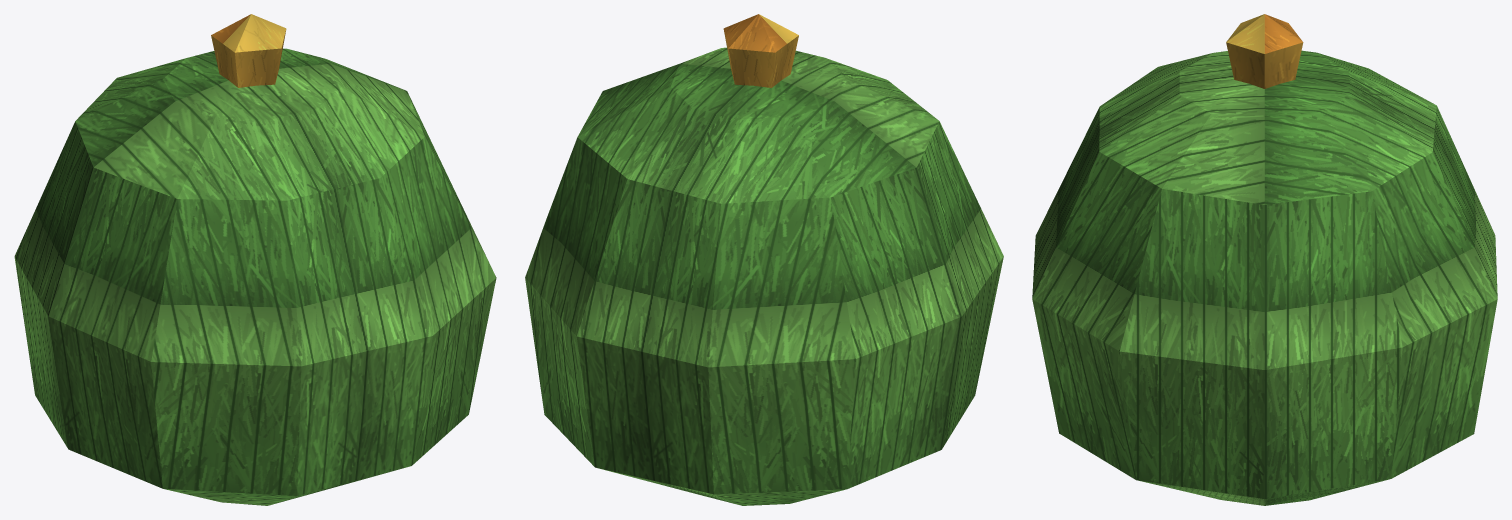
File: cactus_barril.glb
3 views of the same model, side by side, from view 1: azimuth 30°, elevation 25°; view 2: azimuth 150°, elevation 25°; view 3: azimuth 270°, elevation 25° (orthographic).
Visible parts, largest first — view 1: CactusBarril_cuerpo; view 2: CactusBarril_cuerpo; view 3: CactusBarril_cuerpo.
Part boxes in pixels (x1,y1,x2,y2): CactusBarril_cuerpo: (14,14,496,505); CactusBarril_cuerpo: (525,14,1003,505); CactusBarril_cuerpo: (1032,14,1497,505).
Size of the model in its own units: 1.88 by 2 by 1.83.
2 materials, 2 textured.
